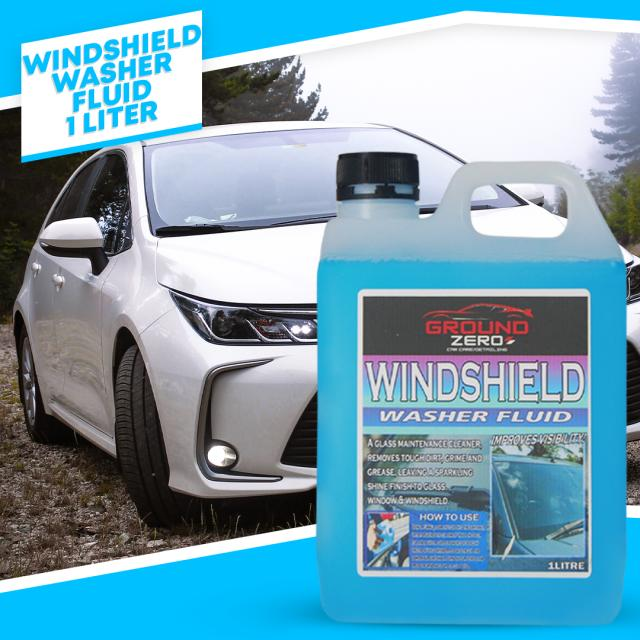winwinshield_washer: (318, 149, 632, 628)
